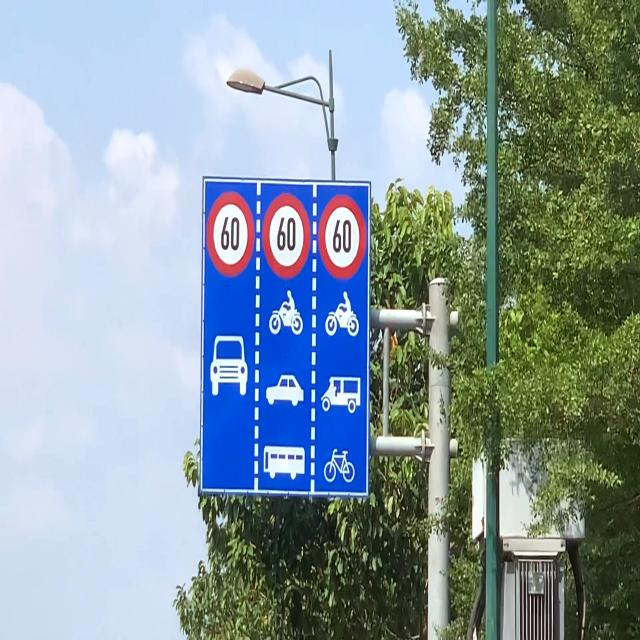P.127: (262, 192, 311, 278), (318, 194, 367, 279), (207, 191, 254, 277)
